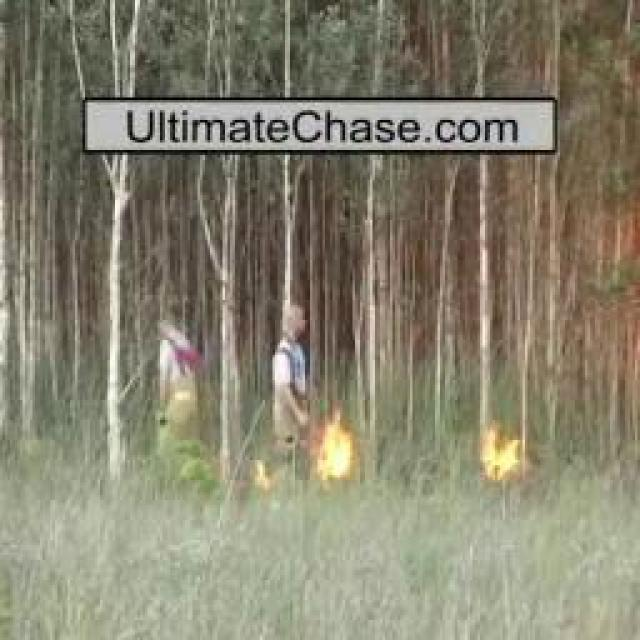Fire: (478, 419, 527, 482), (320, 410, 352, 488), (248, 455, 273, 497)
